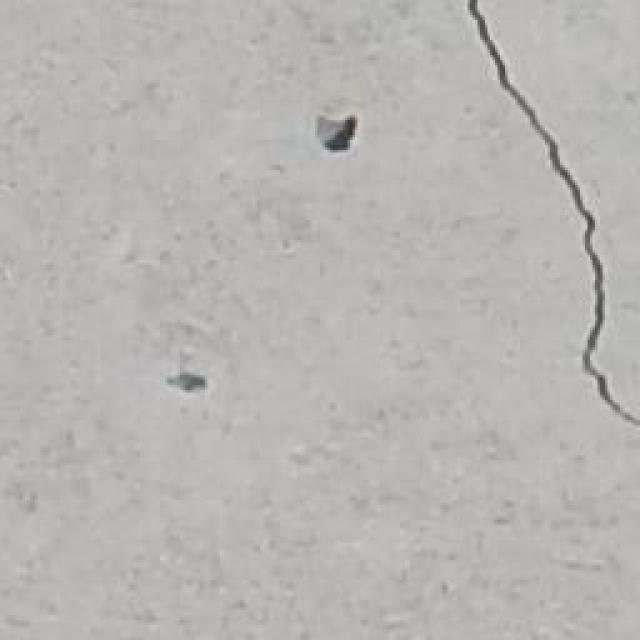concrete-crack: (462, 0, 640, 430), (310, 100, 365, 162), (165, 372, 210, 398)
